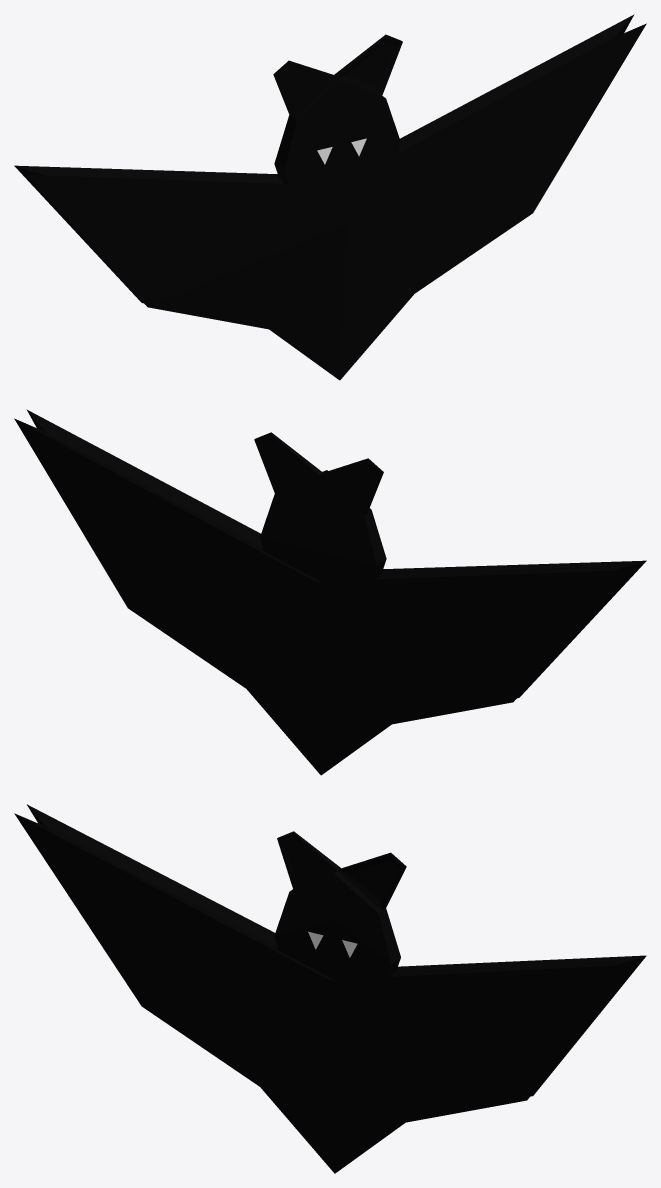
The model's file is VoarItem.fbx.
3 views of the same model, one above another, from view 1: azimuth 30°, elevation 25°; view 2: azimuth 150°, elevation 25°; view 3: azimuth 330°, elevation 25° (orthographic).
Parts seen in each view (by area): view 1: Morcego; view 2: Morcego; view 3: Morcego.
Boxes of the visible parts, x1,y1,x2,y2 form: Morcego: [14, 14, 646, 380]; Morcego: [14, 409, 646, 775]; Morcego: [14, 804, 646, 1173].
Bounding box in the file's own units: 164 × 83.31 × 8.08.
